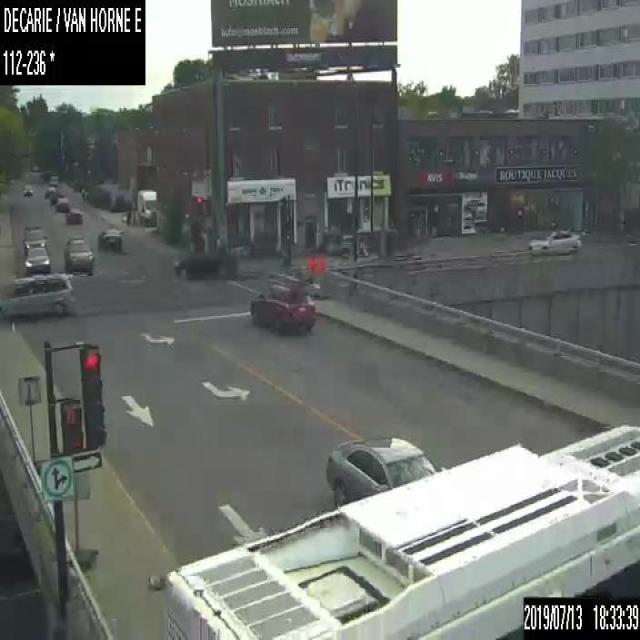bus: (157, 421, 639, 639)
construction: (65, 469, 97, 571), (17, 370, 44, 476), (306, 252, 317, 297), (316, 255, 326, 299)
vehicle: (326, 435, 442, 502), (520, 594, 639, 638), (0, 272, 73, 319), (249, 281, 314, 331), (173, 248, 237, 281), (527, 228, 581, 256), (65, 236, 93, 272), (22, 227, 48, 254), (138, 188, 156, 226), (24, 247, 50, 272), (97, 227, 123, 251), (66, 208, 81, 225), (55, 196, 68, 211), (21, 181, 34, 195), (50, 190, 61, 206), (48, 173, 58, 185), (44, 186, 56, 196)
